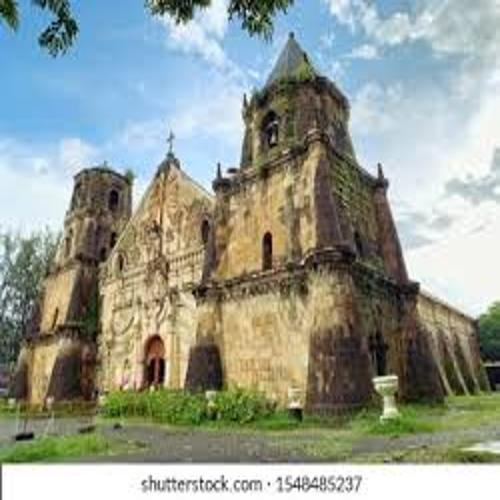Miagao Church: (38, 41, 402, 408)
